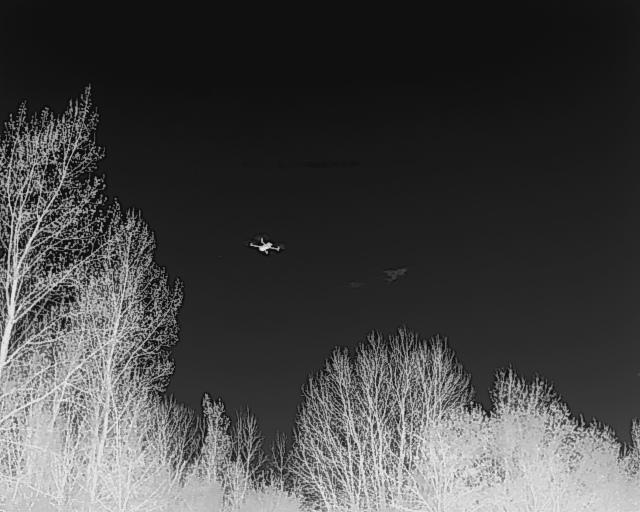drone: (240, 228, 290, 261)
